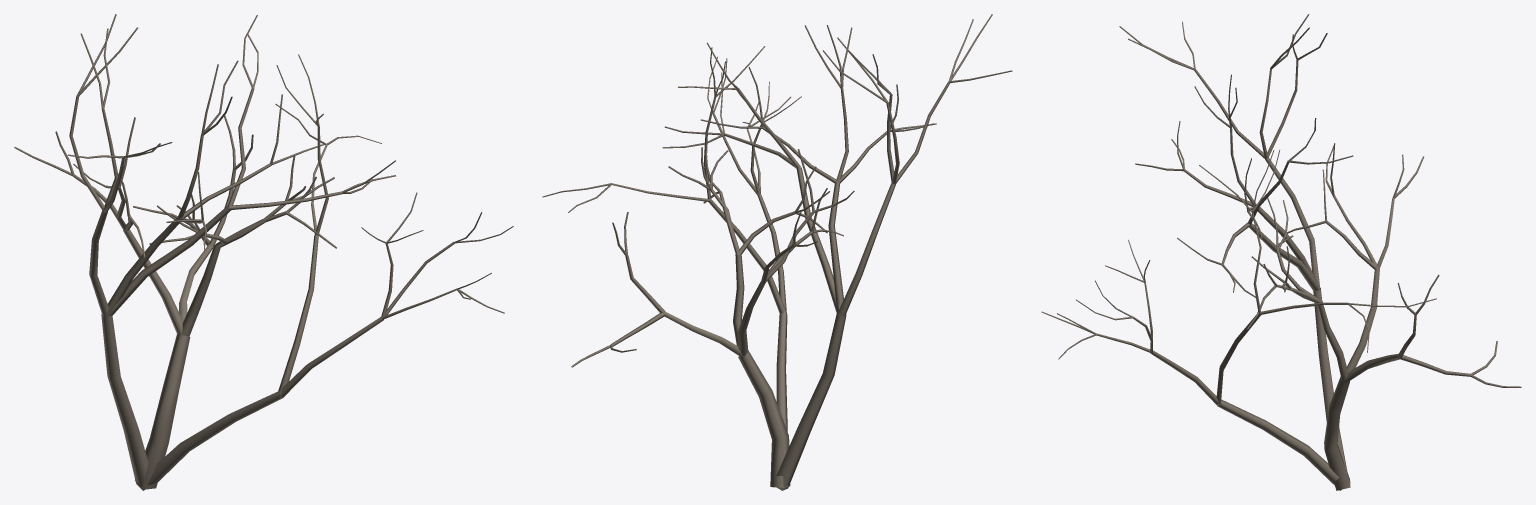
File: desert_brush_0.glb
The picture shows the model from 3 angles, left to right: view 1: azimuth 30°, elevation 25°; view 2: azimuth 150°, elevation 25°; view 3: azimuth 270°, elevation 25°; orthographic projection. The views are drawn at different scales.
Parts seen in each view (by area): view 1: DesertBrush_Twigs; view 2: DesertBrush_Twigs; view 3: DesertBrush_Twigs.
Boxes of the visible parts, bbox=[...] form: DesertBrush_Twigs: bbox=[14, 14, 513, 490]; DesertBrush_Twigs: bbox=[542, 14, 1012, 490]; DesertBrush_Twigs: bbox=[1041, 14, 1521, 490].
Size of what is drawn, in the model's own units: 0.786 by 0.883 by 0.8749.
